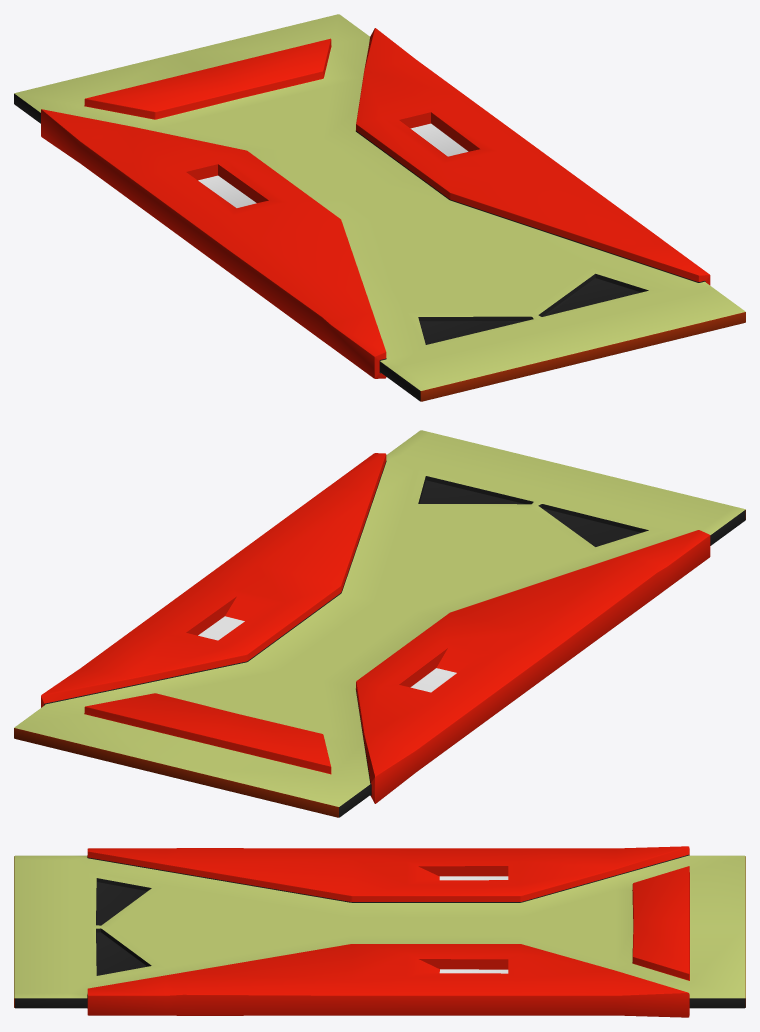
The model's file is C_Door2.fbx.
3 renders of one model, top to bottom at view 1: azimuth 30°, elevation 25°; view 2: azimuth 150°, elevation 25°; view 3: azimuth 270°, elevation 25°, orthographic. The views are drawn at different scales.
Parts seen in each view (by area): view 1: C_door2; view 2: C_door2; view 3: C_door2.
Boxes of the visible parts, x1,y1,x2,y2 form: C_door2: [14, 14, 745, 401]; C_door2: [14, 430, 745, 817]; C_door2: [14, 846, 745, 1017].
Size of the model in its own units: 3.1 by 0.2483 by 6.5.
